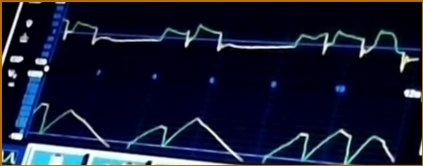Double_Triggering Flow: (61, 16, 419, 73)
Double_Triggering Volume: (33, 100, 396, 165)
